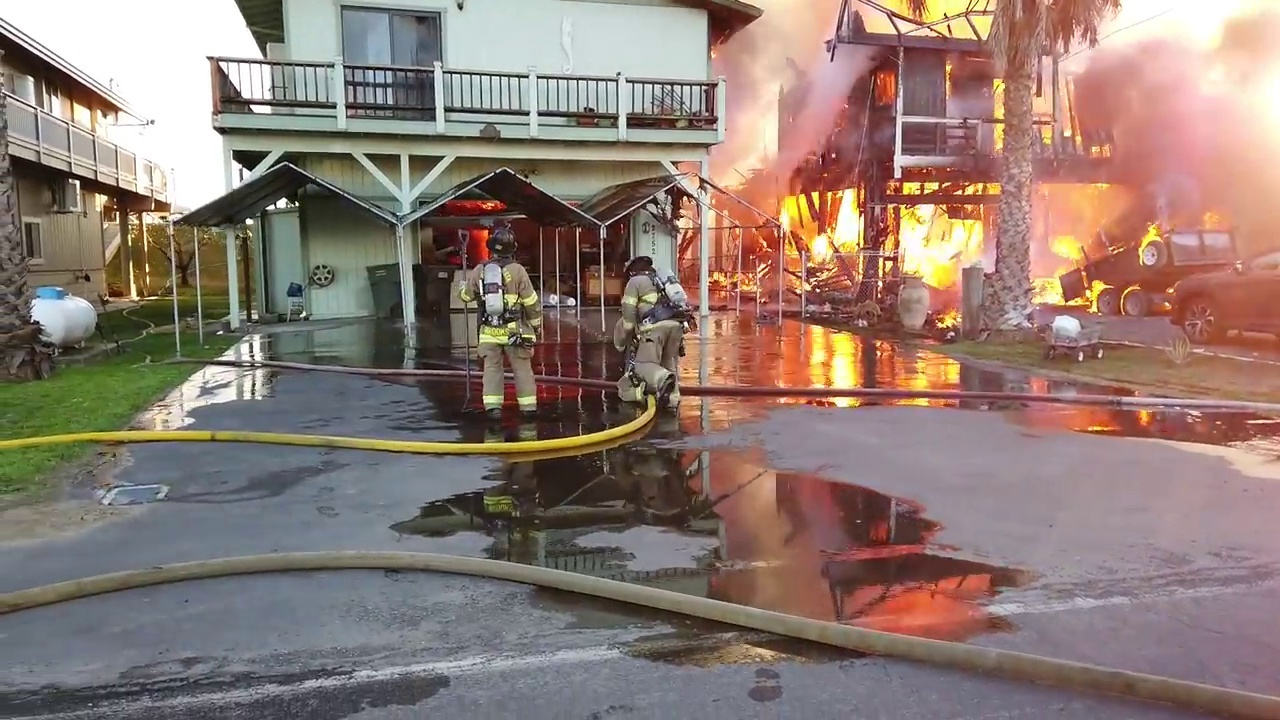fire: (782, 186, 864, 268), (898, 204, 982, 281), (869, 172, 1004, 203), (1079, 275, 1151, 318), (865, 63, 905, 106), (1133, 222, 1167, 269), (1031, 272, 1074, 308), (1049, 233, 1084, 267), (992, 77, 1008, 149), (939, 53, 959, 96), (936, 302, 962, 327)
smoke: (1074, 1, 1280, 216), (691, 1, 846, 177)
